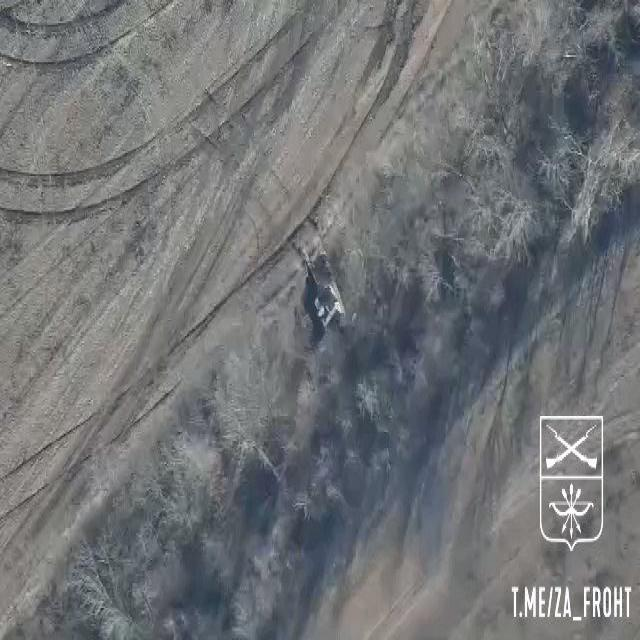cars: (311, 268, 346, 338)
